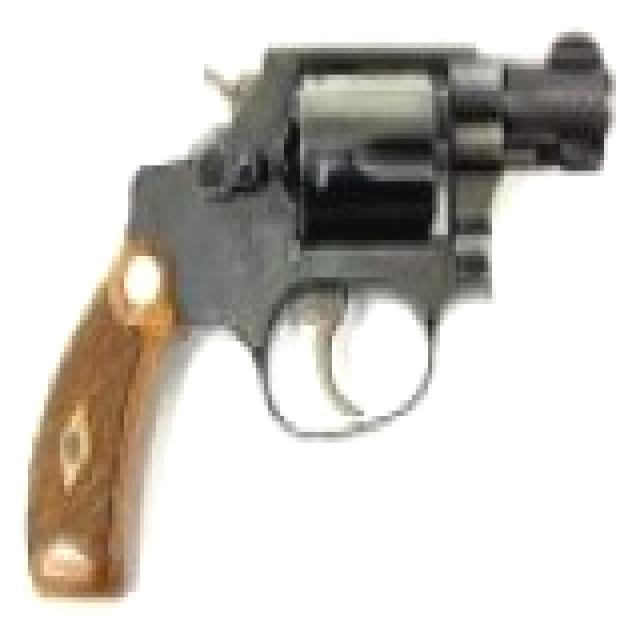pistol: (20, 16, 604, 597)
